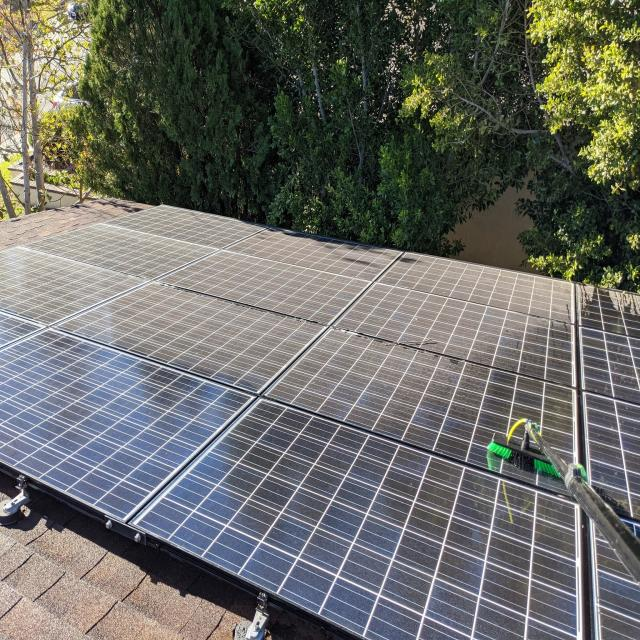faulty: (3, 203, 580, 640)
